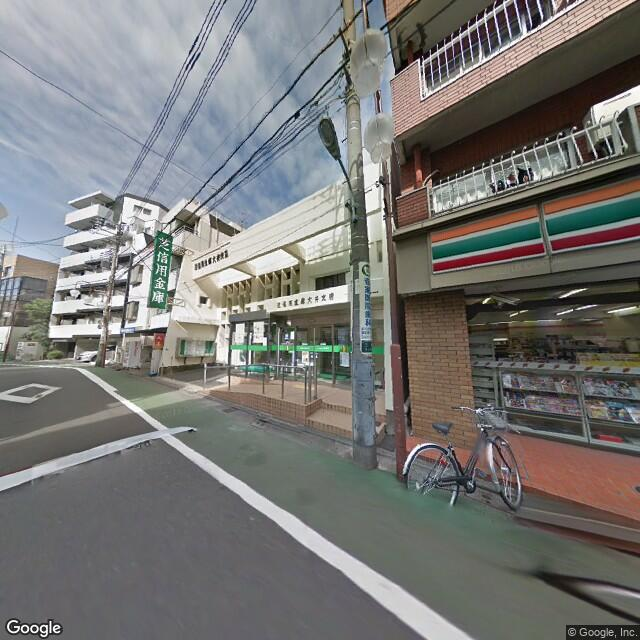7-eleven: (428, 171, 639, 279)
